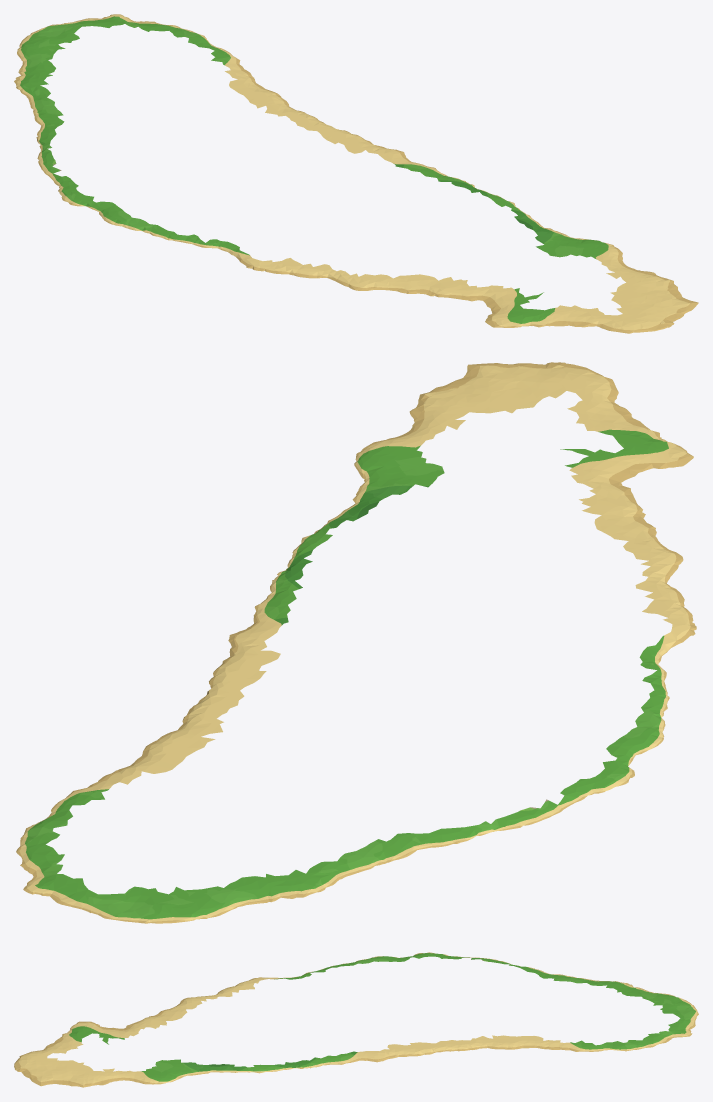
The model's file is Isl-long4-Ground.fbx.
The picture shows the model from 3 angles, top to bottom: view 1: azimuth 30°, elevation 25°; view 2: azimuth 150°, elevation 25°; view 3: azimuth 270°, elevation 25°; orthographic projection. The views are drawn at different scales.
Parts seen in each view (by area): view 1: Isl-long4-Ground-c21, Isl-long4-Ground-c12, Isl-long4-Ground-c22, Isl-long4-Ground-c20, Isl-long4-Ground-c11; view 2: Isl-long4-Ground-c21, Isl-long4-Ground-c12, Isl-long4-Ground-c22, Isl-long4-Ground-c20, Isl-long4-Ground-c11, Isl-long4-Ground-c23; view 3: Isl-long4-Ground-c21, Isl-long4-Ground-c22, Isl-long4-Ground-c12, Isl-long4-Ground-c20, Isl-long4-Ground-c11.
Boxes of the visible parts, left/top/right/bottom form: Isl-long4-Ground-c21: left=378, top=151, right=677, bottom=327; Isl-long4-Ground-c12: left=14, top=31, right=129, bottom=222; Isl-long4-Ground-c22: left=54, top=15, right=402, bottom=153; Isl-long4-Ground-c20: left=523, top=288, right=698, bottom=333; Isl-long4-Ground-c11: left=109, top=215, right=411, bottom=293; Isl-long4-Ground-c21: left=230, top=386, right=693, bottom=640; Isl-long4-Ground-c12: left=130, top=729, right=662, bottom=922; Isl-long4-Ground-c22: left=16, top=635, right=280, bottom=908; Isl-long4-Ground-c20: left=443, top=362, right=667, bottom=441; Isl-long4-Ground-c11: left=623, top=526, right=696, bottom=741; Isl-long4-Ground-c23: left=23, top=885, right=128, bottom=919; Isl-long4-Ground-c21: left=66, top=1009, right=378, bottom=1087; Isl-long4-Ground-c22: left=377, top=1010, right=689, bottom=1062; Isl-long4-Ground-c12: left=378, top=952, right=689, bottom=1010; Isl-long4-Ground-c20: left=14, top=1030, right=73, bottom=1086; Isl-long4-Ground-c11: left=160, top=956, right=378, bottom=1011.
Size of the model in its own units: 61.64 by 0.4899 by 132.
